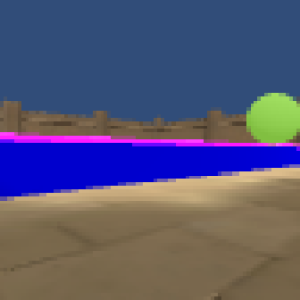goodGoal: (242, 85, 300, 146)
platform: (2, 146, 294, 198)
ramp: (1, 129, 294, 147)
